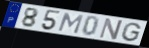0: (81, 16, 101, 37)
5: (40, 8, 61, 31)
8: (21, 7, 40, 28)
G: (120, 22, 143, 43)
M: (57, 13, 85, 36)
N: (98, 17, 125, 41)
